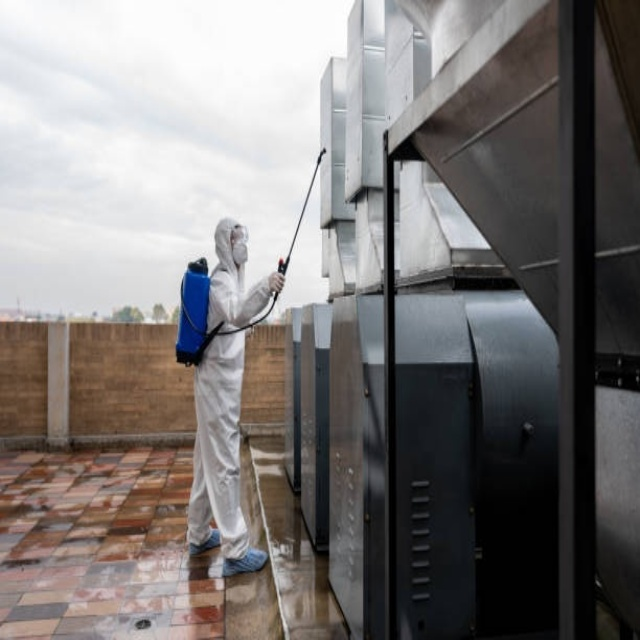Gafas: (232, 226, 250, 245)
Guantes: (268, 271, 285, 296)
Mascara: (232, 239, 248, 265)
